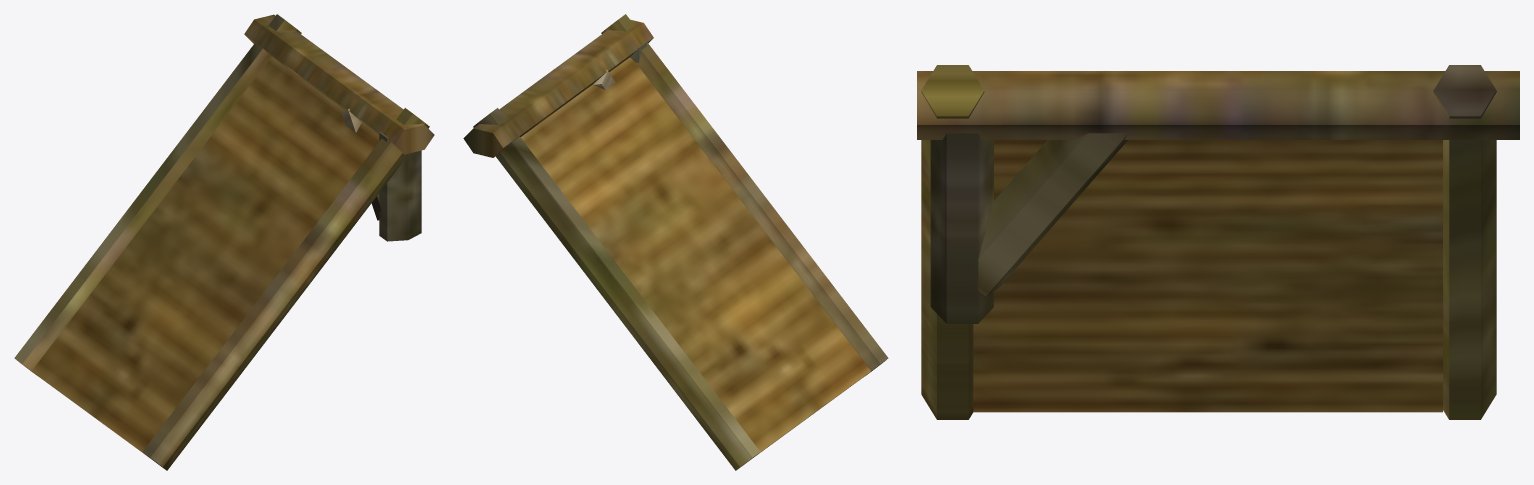
The model's file is 1half_shelf.fbx.
3 renders of one model, left to right at view 1: azimuth 30°, elevation 25°; view 2: azimuth 150°, elevation 25°; view 3: azimuth 270°, elevation 25°, orthographic. The views are drawn at different scales.
Visible parts, largest first — view 1: Shelf.001; view 2: Shelf.001; view 3: Shelf.001.
Part boxes in pixels (x1,y1,x2,y2): Shelf.001: (14,14,434,470); Shelf.001: (463,14,888,470); Shelf.001: (917,65,1519,419).
Bounding box in the file's own units: 1.89 × 1.77 × 1.92.
1 material, 1 textured.
